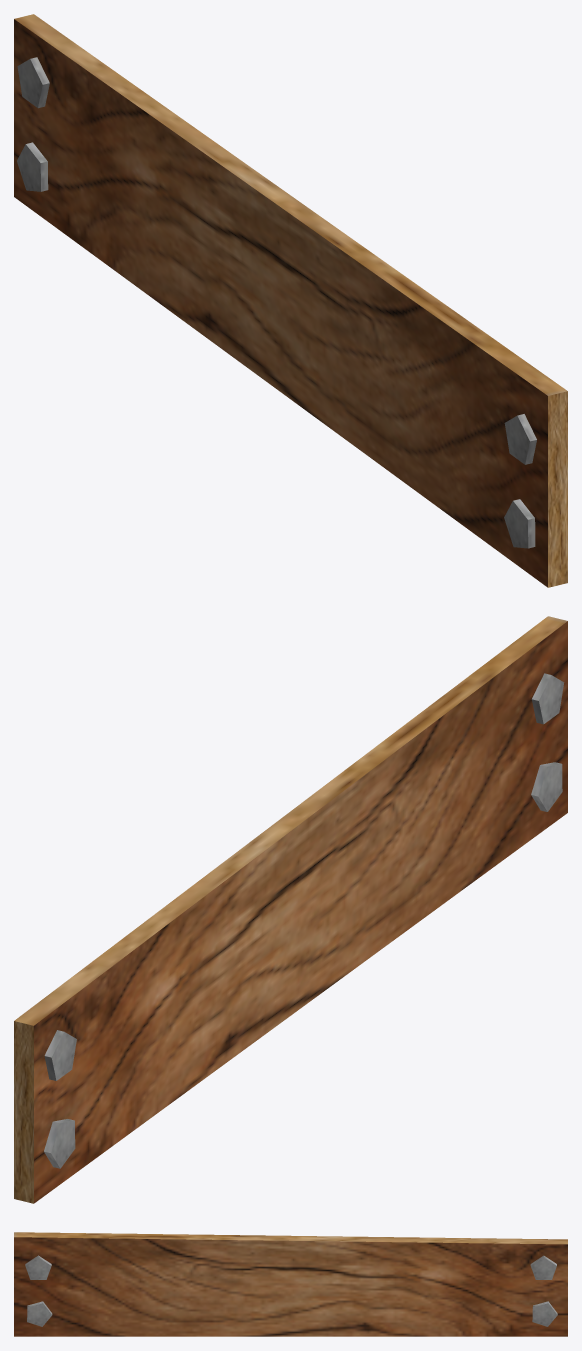
Rendered from tabla_para_hueco.fbx.
The picture shows the model from 3 angles, top to bottom: view 1: azimuth 30°, elevation 25°; view 2: azimuth 150°, elevation 25°; view 3: azimuth 270°, elevation 25°; orthographic projection. The views are drawn at different scales.
Visible parts, largest first — view 1: tabla para hueco; view 2: tabla para hueco; view 3: tabla para hueco.
Boxes of the visible parts, x1=… form: tabla para hueco: x1=14, y1=14, x2=567, y2=587; tabla para hueco: x1=14, y1=616, x2=567, y2=1203; tabla para hueco: x1=14, y1=1232, x2=567, y2=1336.
Bounding box in the file's own units: 4.99 × 26.44 × 133.
